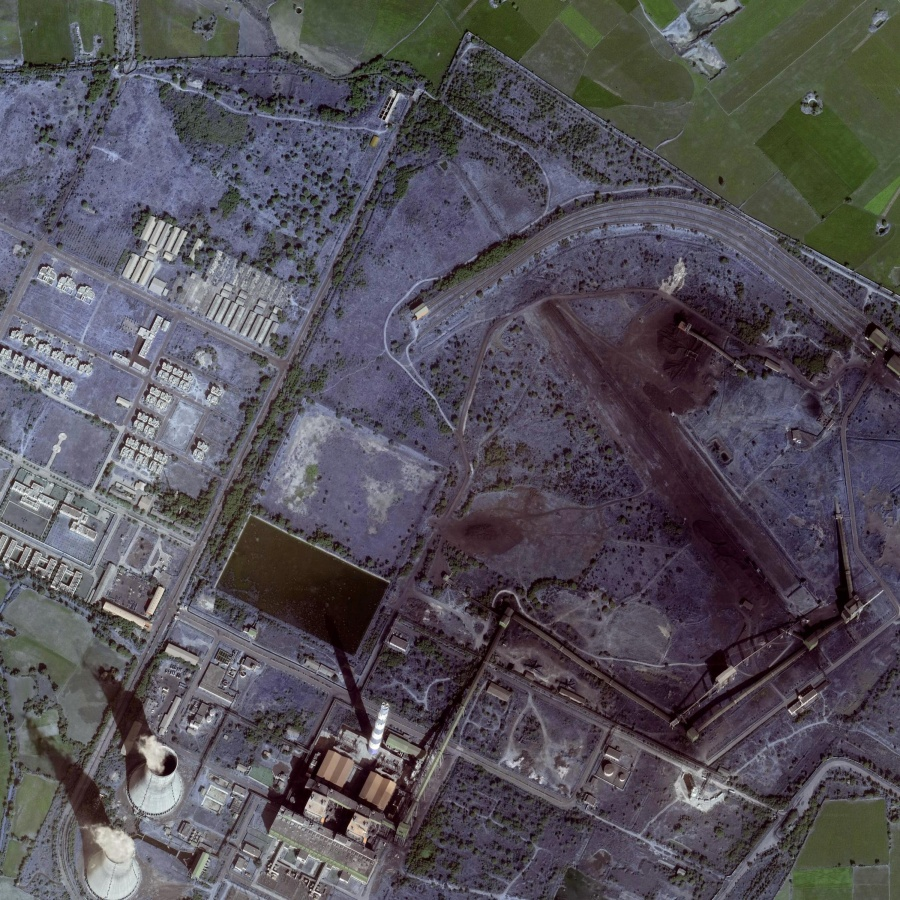PowerPlant: (500, 266, 826, 662)
